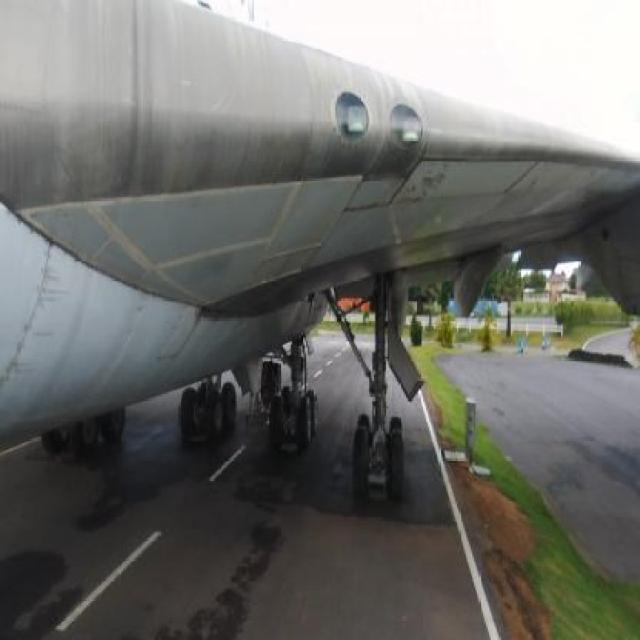Missing-Rivet: (18, 245, 62, 370)
Scartch: (408, 155, 457, 208)
